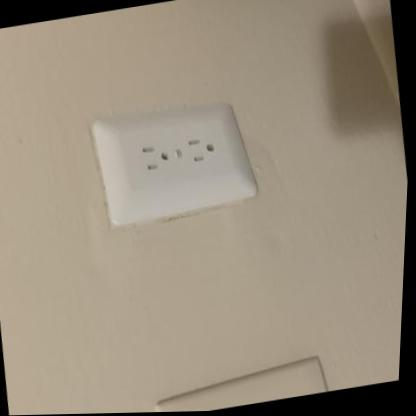OUTLET: (83, 92, 265, 228)
